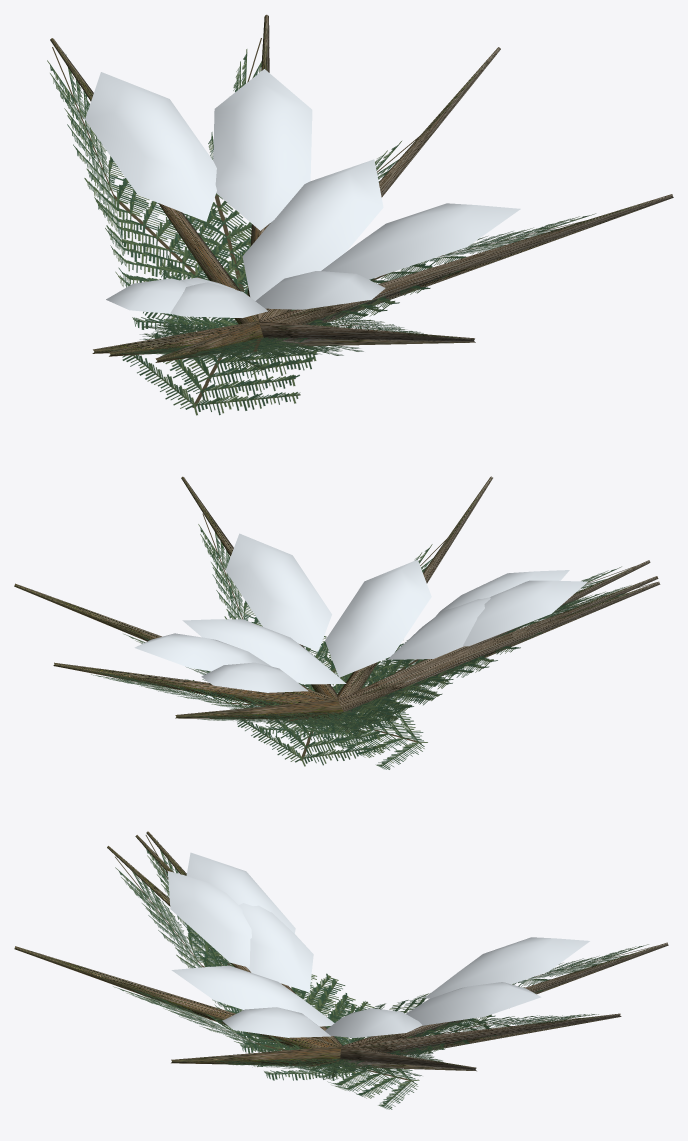
The model's file is scrub_2.glb.
3 renders of one model, top to bottom at view 1: azimuth 30°, elevation 25°; view 2: azimuth 150°, elevation 25°; view 3: azimuth 270°, elevation 25°, orthographic. The views are drawn at different scales.
Visible parts, largest first — view 1: Scrub.001; view 2: Scrub.001; view 3: Scrub.001.
Part boxes in pixels (<box>): Scrub.001: <box>47,14,673,415</box>; Scrub.001: <box>14,476,660,769</box>; Scrub.001: <box>14,831,668,1109</box>.
Bounding box in the file's own units: 0.9906 × 0.282 × 1.11.
Materials: 3 (2 with a texture image).
